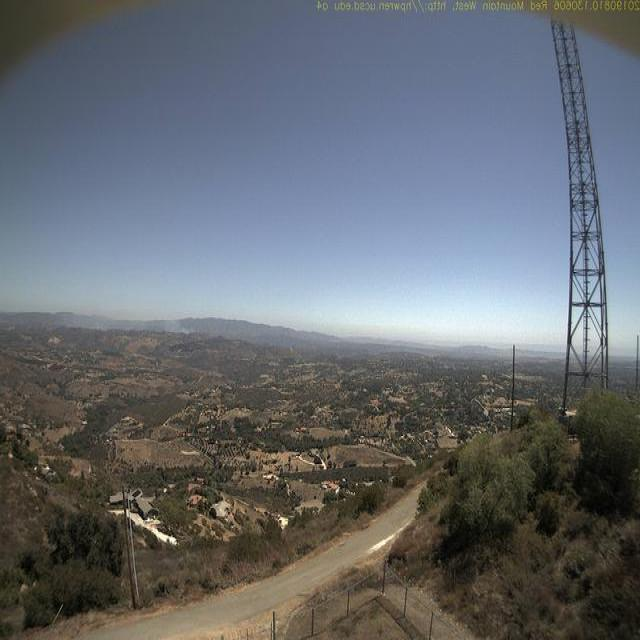smoke: (138, 313, 194, 336)
